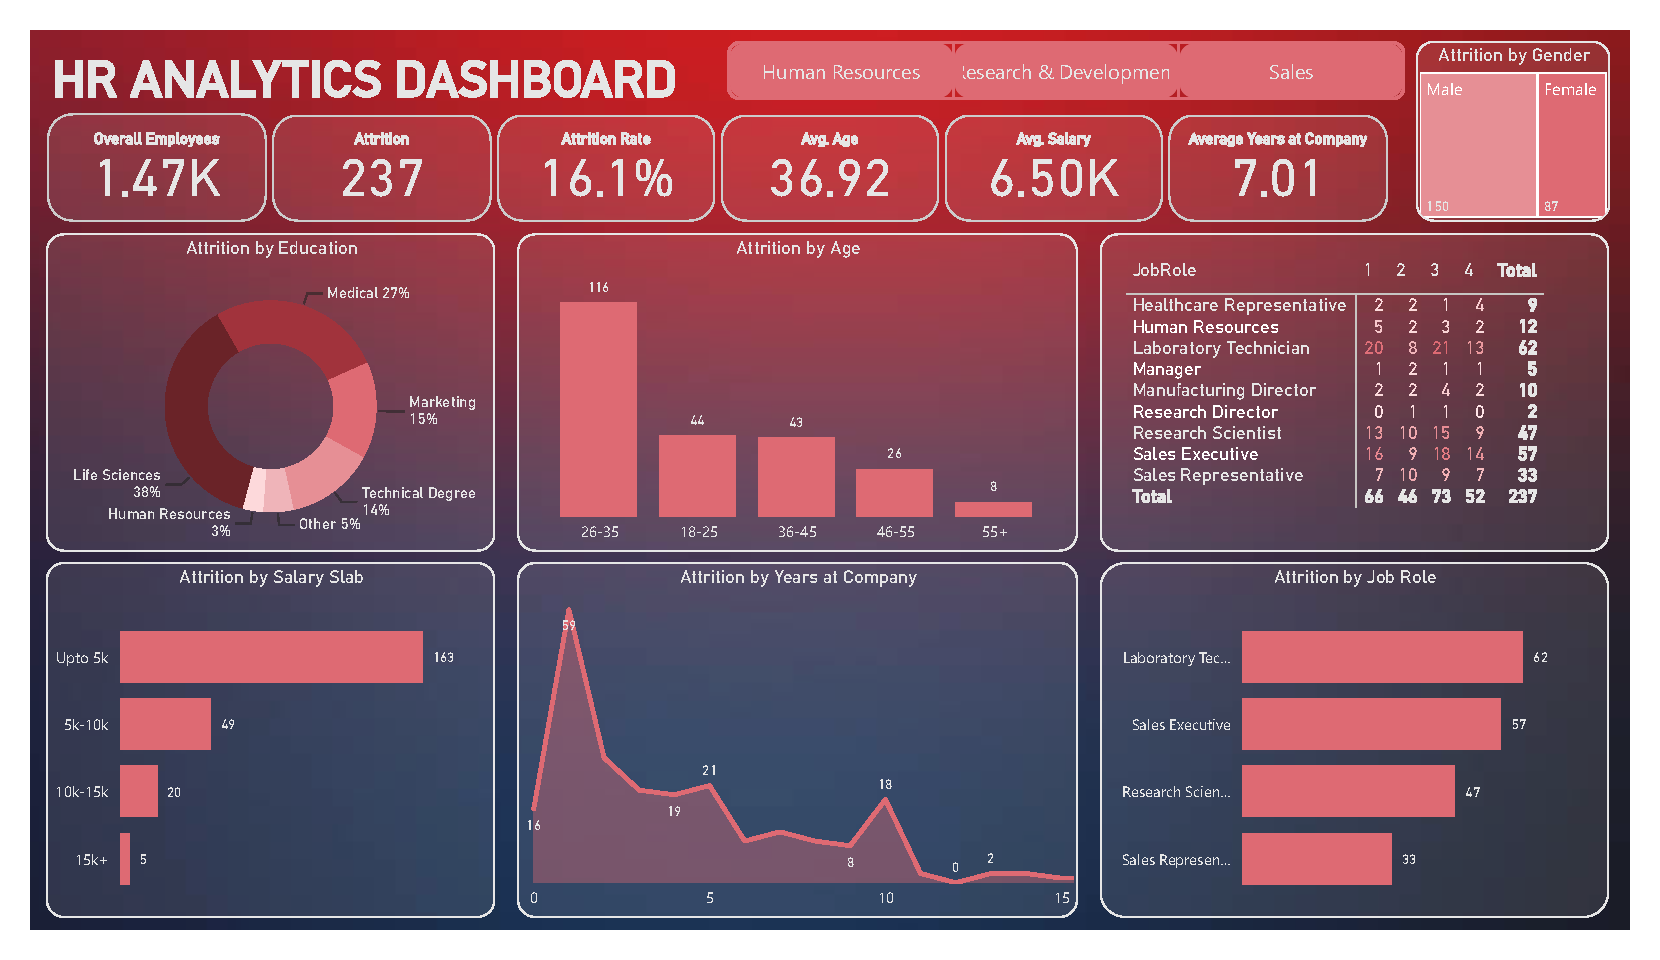

The dashboard page shown, as its layout file describes it:
{"tool":"powerbi","page":{"name":"Page 1","canvas":[1280,720],"ordinal":0},"visuals":[{"type":"cardVisual","fields":{"Data":["CountNonNull(HR_Analytics.EmpID)"]},"box":[13.8,67.4,175,85.1],"z":0},{"type":"cardVisual","fields":{"Data":["HR_Analytics.AttritionRate"]},"box":[374.3,67.5,173.8,85],"z":1000},{"type":"cardVisual","fields":{"Data":["Avg(HR_Analytics.Age)"]},"box":[553.3,67.5,173.8,85],"z":2000},{"type":"cardVisual","fields":{"Data":["Sum(HR_Analytics.AttritionCount)"]},"box":[194,67.5,175,85],"z":3000},{"type":"cardVisual","fields":{"Data":["Avg(HR_Analytics.MonthlyIncome)"]},"box":[732.3,67.5,173.8,85],"z":4000},{"type":"cardVisual","fields":{"Data":["Avg(HR_Analytics.YearsAtCompany)"]},"box":[911.2,67.5,175,85],"z":5000},{"type":"donutChart","title":"Attrition by Education","fields":{"Y":["Sum(HR_Analytics.AttritionCount)"],"Category":["HR_Analytics.EducationField"]},"box":[13.3,163.3,358.9,253.3],"z":6000},{"type":"columnChart","title":"Attrition by Age","fields":{"Category":["HR_Analytics.AgeGroup"],"Y":["Sum(HR_Analytics.AttritionCount)"]},"box":[390,163.3,447.8,253.3],"z":7000},{"type":"barChart","title":"Attrition by Salary Slab","fields":{"Category":["HR_Analytics.SalarySlab"],"Y":["Sum(HR_Analytics.AttritionCount)"]},"box":[13.3,425.6,358.9,284.4],"z":8000},{"type":"areaChart","title":"Attrition by Years at Company","fields":{"Category":["HR_Analytics.YearsAtCompany"],"Y":["Sum(HR_Analytics.AttritionCount)"]},"box":[390,425.6,447.8,284.4],"z":9000},{"type":"barChart","title":"Attrition by Job Role","fields":{"Y":["Sum(HR_Analytics.AttritionCount)"],"Category":["HR_Analytics.JobRole"]},"box":[855.6,425.6,407.8,284.4],"z":10000},{"type":"pivotTable","title":"Attrition by Age","fields":{"Rows":["HR_Analytics.JobRole"],"Columns":["HR_Analytics.JobSatisfaction"],"Values":["Sum(HR_Analytics.AttritionCount)"]},"box":[855.6,163.3,407.8,253.3],"z":11000},{"type":"treemap","title":"Attrition by Gender","fields":{"Group":["HR_Analytics.Gender"],"Values":["Sum(HR_Analytics.AttritionCount)"]},"box":[1109.1,9.1,154.5,143.6],"z":12000},{"type":"textbox","title":"HR ANALYTICS DASHBOARD","box":[13.3,15.6,514.4,52.2],"z":13000},{"type":"advancedSlicerVisual","fields":{"Values":["HR_Analytics.Department"]},"box":[557.5,8.8,543.8,47.5],"z":14000}]}

Visuals, with their boxes in screenshot pixels (x1, y1, x2, y2), scaled from the page's 1280x720 canvas onto the 1660x960 screenshot:
cardVisual - CountNonNull(HR_Analytics.EmpID): BBox(18, 90, 245, 203)
cardVisual - HR_Analytics.AttritionRate: BBox(485, 90, 711, 203)
cardVisual - Avg(HR_Analytics.Age): BBox(718, 90, 943, 203)
cardVisual - Sum(HR_Analytics.AttritionCount): BBox(252, 90, 479, 203)
cardVisual - Avg(HR_Analytics.MonthlyIncome): BBox(950, 90, 1175, 203)
cardVisual - Avg(HR_Analytics.YearsAtCompany): BBox(1182, 90, 1409, 203)
"Attrition by Education" donutChart: BBox(17, 218, 483, 555)
"Attrition by Age" columnChart: BBox(506, 218, 1087, 555)
"Attrition by Salary Slab" barChart: BBox(17, 567, 483, 947)
"Attrition by Years at Company" areaChart: BBox(506, 567, 1087, 947)
"Attrition by Job Role" barChart: BBox(1110, 567, 1638, 947)
"Attrition by Age" pivotTable: BBox(1110, 218, 1638, 555)
"Attrition by Gender" treemap: BBox(1438, 12, 1639, 204)
"HR ANALYTICS DASHBOARD" textbox: BBox(17, 21, 684, 90)
advancedSlicerVisual - HR_Analytics.Department: BBox(723, 12, 1428, 75)
